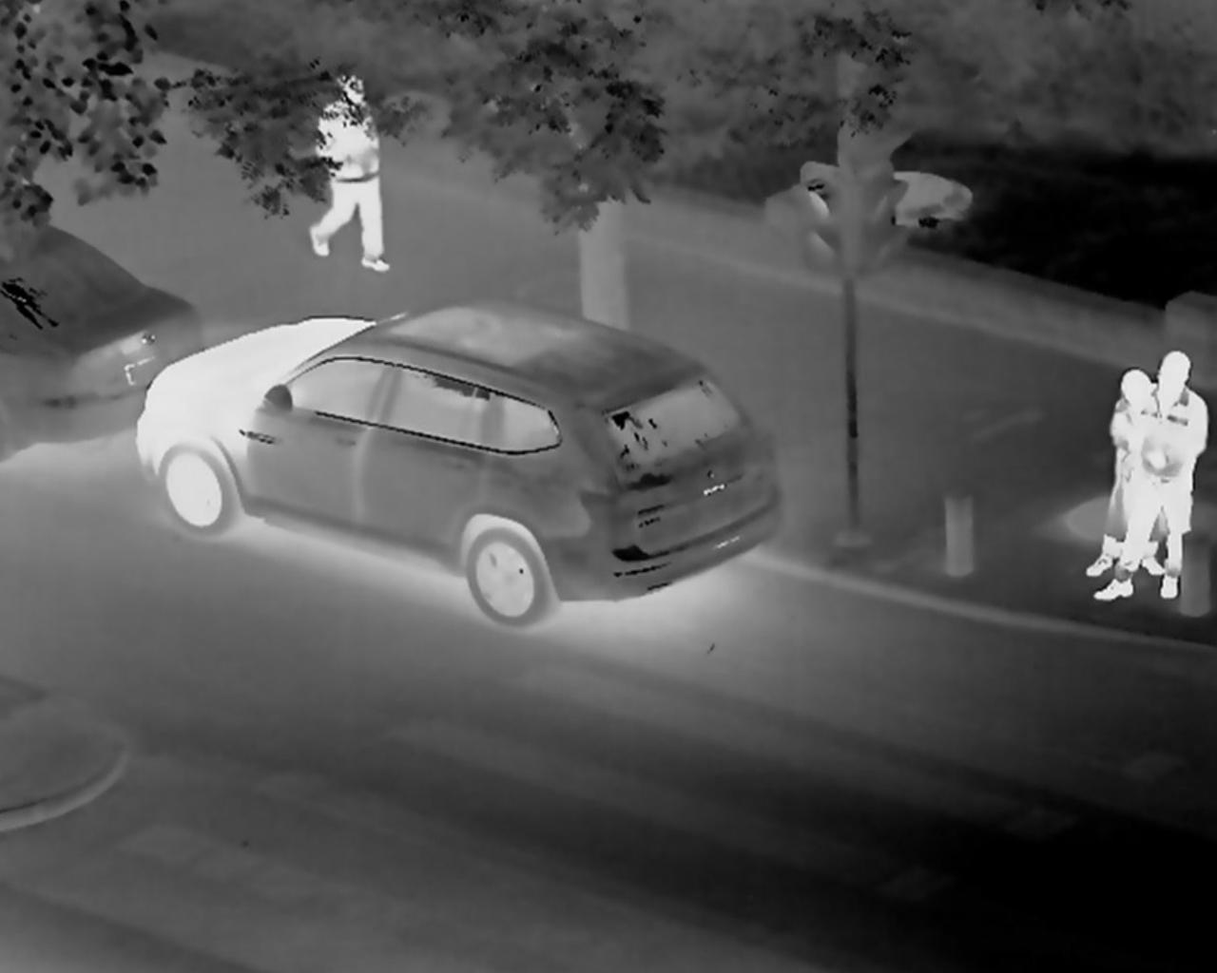person: (303, 71, 408, 274), (1136, 361, 1210, 624), (1102, 373, 1132, 538)
